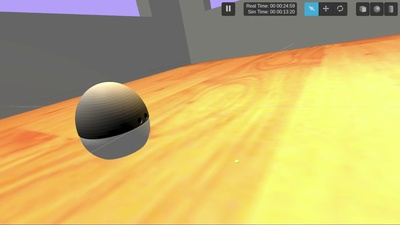mira_robot: (75, 82, 151, 160)
